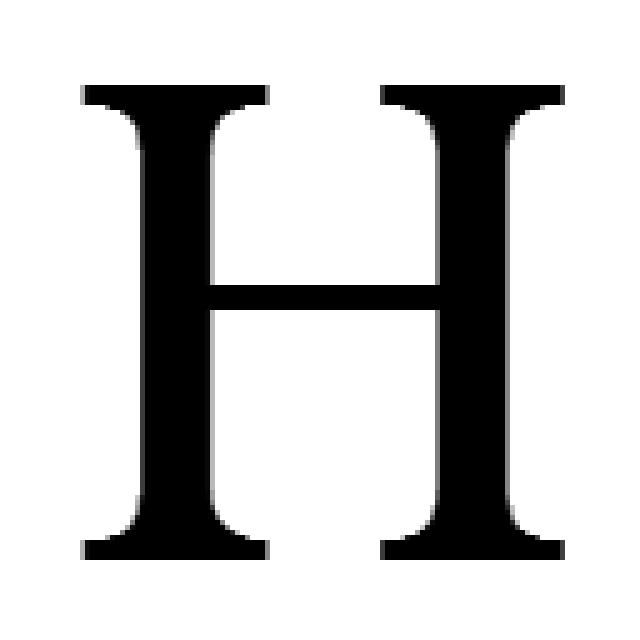H: (80, 85, 565, 560)
